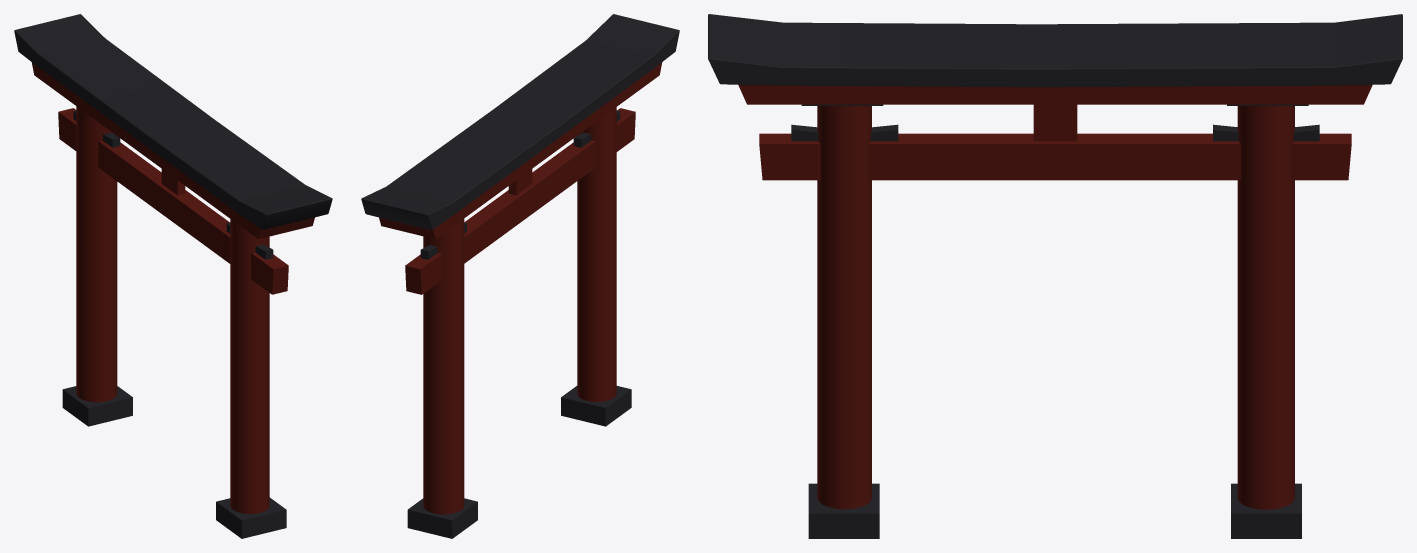
File: arch04.fbx
3 views of the same model, side by side, from view 1: azimuth 30°, elevation 25°; view 2: azimuth 150°, elevation 25°; view 3: azimuth 270°, elevation 25° (orthographic). The views are drawn at different scales.
Parts seen in each view (by area): view 1: arch04; view 2: arch04; view 3: arch04.
Part boxes in pixels (x1,y1,x2,y2): arch04: (14,14,332,538); arch04: (361,14,679,538); arch04: (708,14,1402,538).
Bounding box in the file's own units: 204 × 1029 × 1329.
